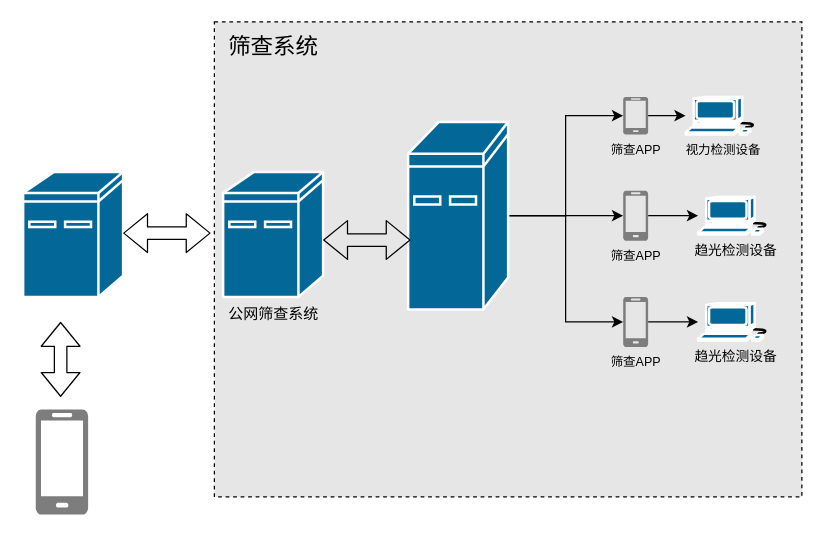
This 824x560 diagram has some shape labels left out. Each missing label, with the centre of its shape:
大数据平台: the point at 72,234
家长端小程序: the point at 61,461
移动筛查站点: the point at 457,215
